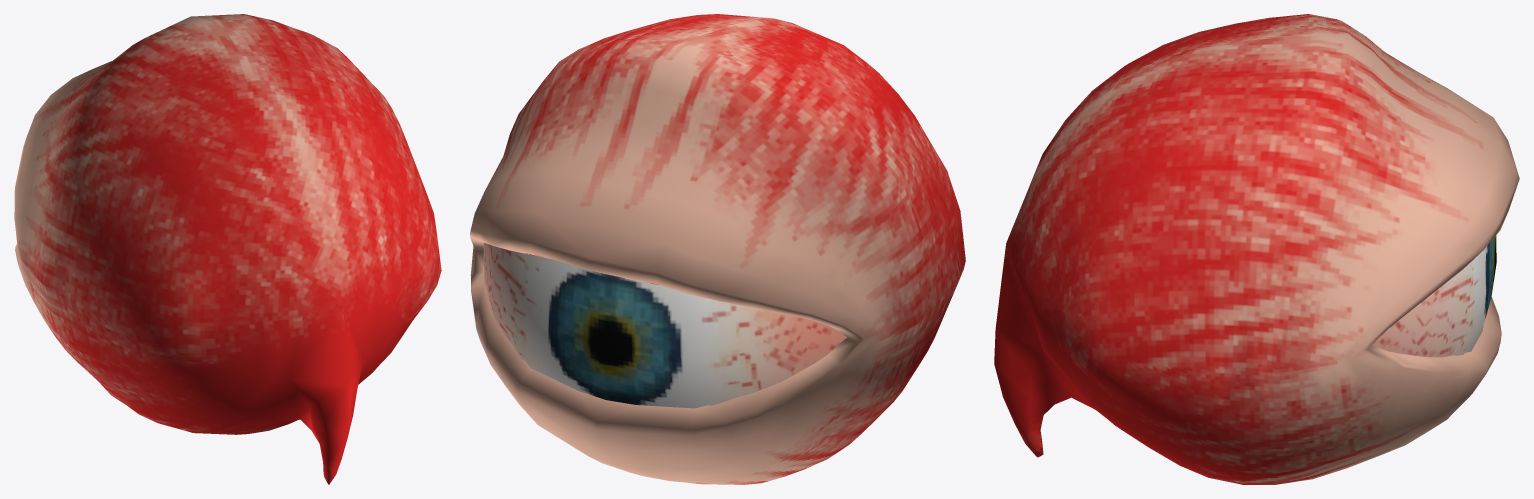
The model's file is EyeBoss (2).fbx.
3 renders of one model, left to right at view 1: azimuth 30°, elevation 25°; view 2: azimuth 150°, elevation 25°; view 3: azimuth 270°, elevation 25°, orthographic. The views are drawn at different scales.
Parts seen in each view (by area): view 1: EysBoss; view 2: EysBoss, EyeBoss; view 3: EysBoss, EyeBoss.
Part boxes in pixels (x1,y1,x2,y2): EysBoss: (14, 14, 441, 484); EysBoss: (470, 14, 965, 484); EyeBoss: (483, 242, 846, 408); EysBoss: (994, 14, 1519, 484); EyeBoss: (1372, 235, 1496, 357).
Size of the model in its own units: 200 by 201 by 225.
